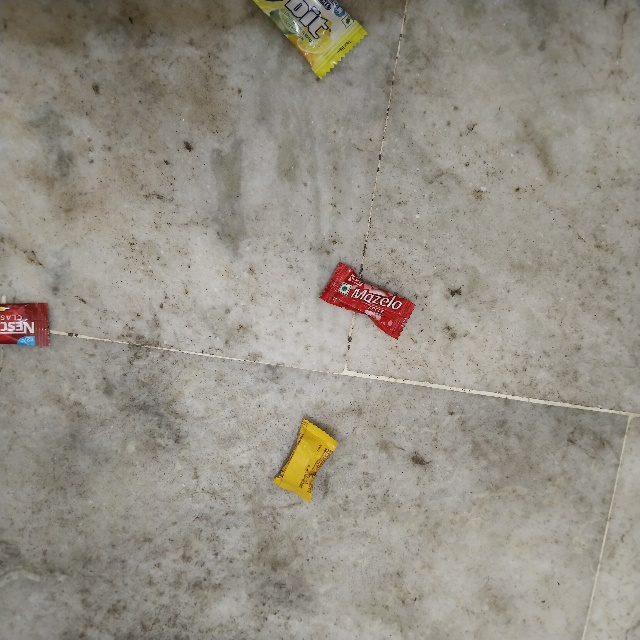Alpenlibe Creamfills: (307, 414, 351, 490)
Mazelo: (344, 262, 430, 304)
Nescafe Coffee: (0, 300, 51, 343)
